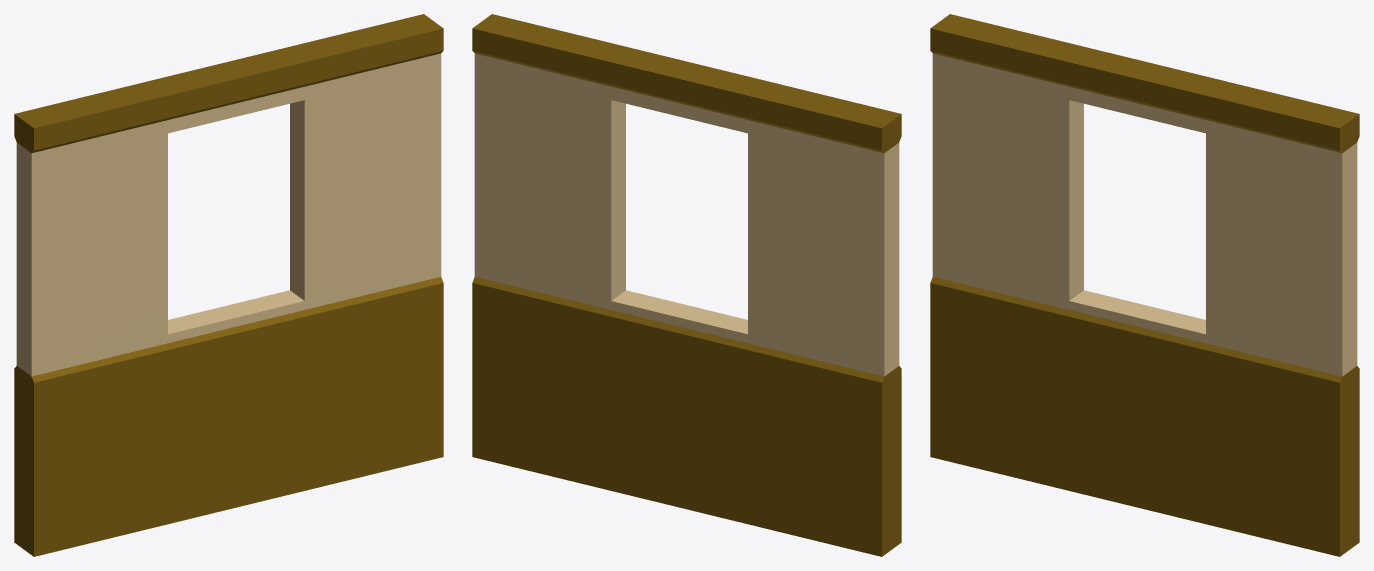
Rendered from Classic_WallWindowFrame_01_snaps001_01.fbx.
The picture shows the model from 3 angles, left to right: view 1: azimuth 30°, elevation 25°; view 2: azimuth 150°, elevation 25°; view 3: azimuth 330°, elevation 25°; orthographic projection.
Visible parts, largest first — view 1: Classic_WallWindowFrame_01_snaps001_01; view 2: Classic_WallWindowFrame_01_snaps001_01; view 3: Classic_WallWindowFrame_01_snaps001_01.
Boxes of the visible parts, left/top/right/bottom form: Classic_WallWindowFrame_01_snaps001_01: left=14, top=14, right=443, bottom=556; Classic_WallWindowFrame_01_snaps001_01: left=472, top=14, right=901, bottom=556; Classic_WallWindowFrame_01_snaps001_01: left=930, top=14, right=1359, bottom=556.
Bounding box in the file's own units: 300 × 300 × 25.
